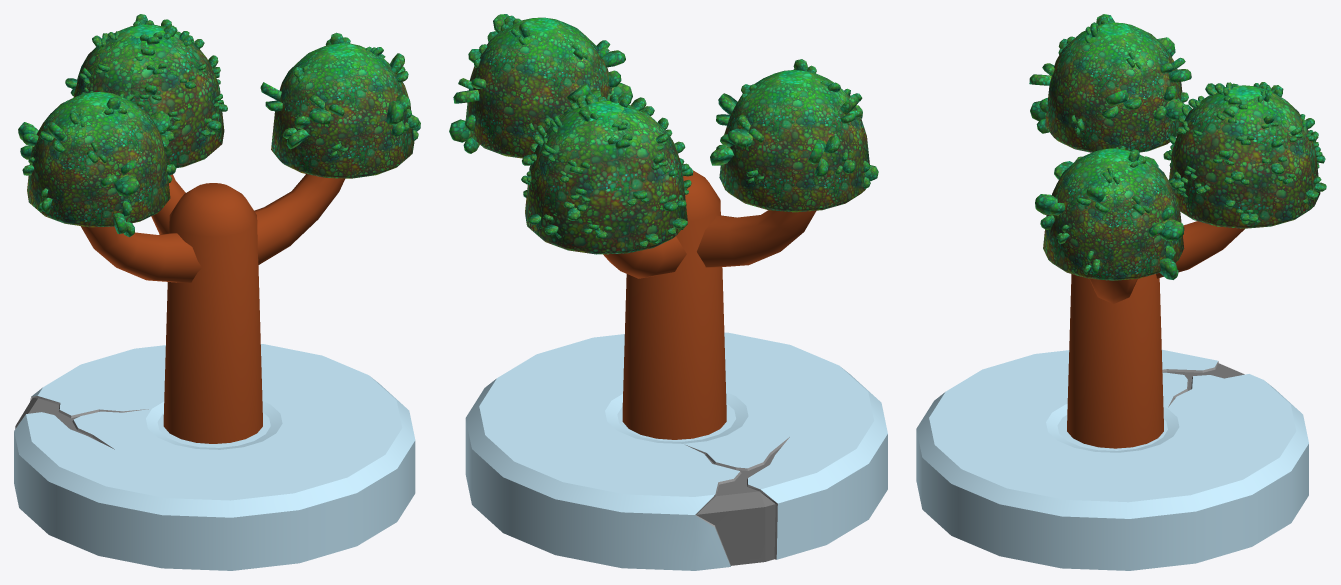
Rendered from BushyTree3.fbx.
3 renders of one model, left to right at view 1: azimuth 30°, elevation 25°; view 2: azimuth 150°, elevation 25°; view 3: azimuth 270°, elevation 25°, orthographic. The views are drawn at different scales.
Visible parts, largest first — view 1: BushyTree3_LOD0; view 2: BushyTree3_LOD0; view 3: BushyTree3_LOD0.
Boxes of the visible parts, box(x1,y1,x2,y2) form: BushyTree3_LOD0: box(14, 14, 420, 570); BushyTree3_LOD0: box(449, 14, 887, 570); BushyTree3_LOD0: box(916, 14, 1326, 570).
Size of what is drawn, in the model's own units: 1406 by 1494 by 1348.
